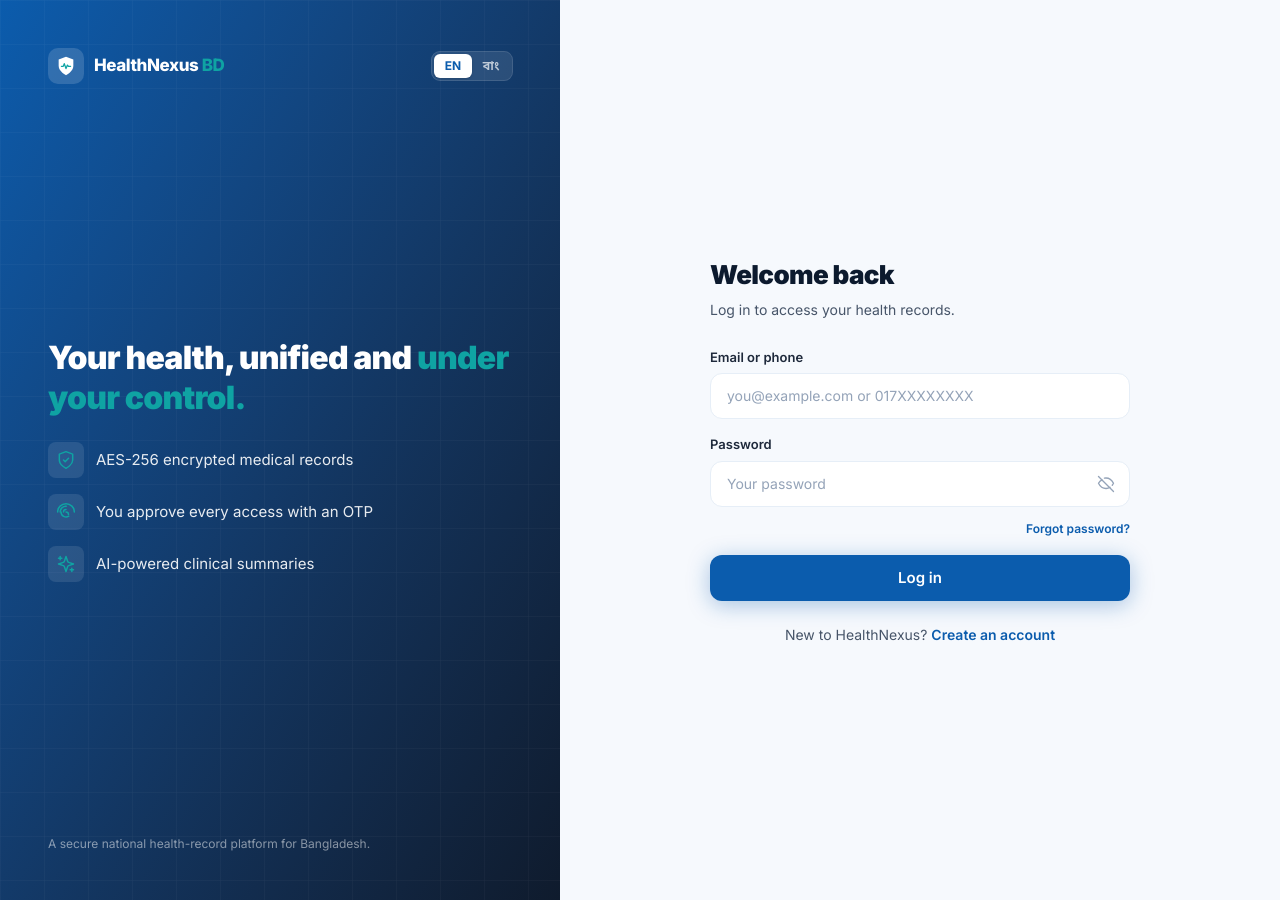
Scenario: auth & landing pages in en › login shows validation errors in the active language
This screenshot has width=1280, height=900.
Click the button "Log in": (920, 578) [710,555,1130,601]
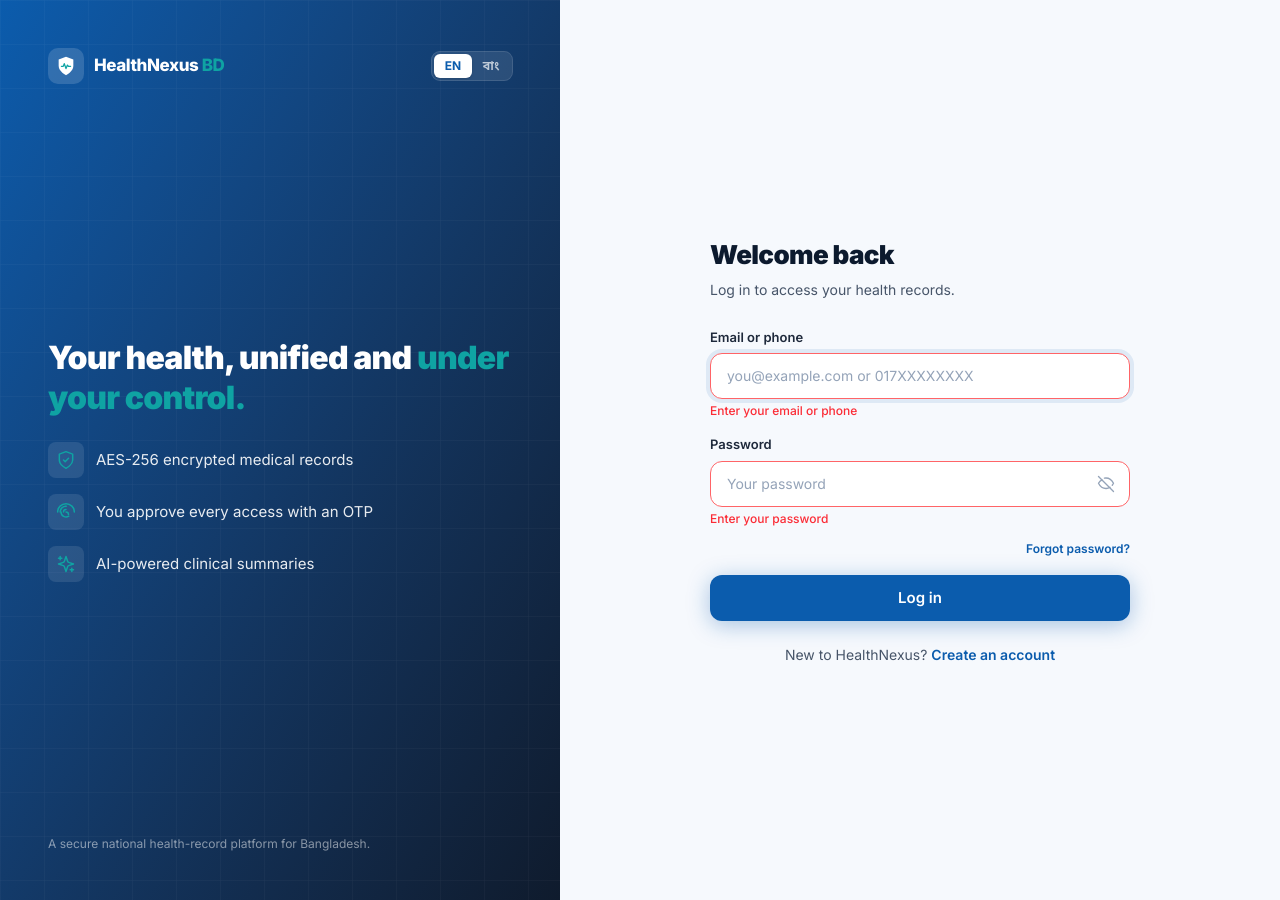
Now the text "Enter your email or phone" is shown, box [710,403,857,418]
Now the text "Enter your password" is shown, box [710,511,828,526]
